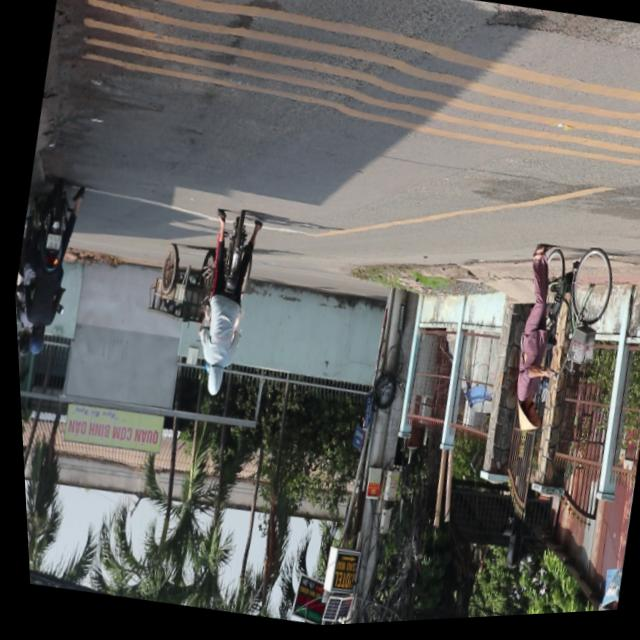helmet: (199, 368, 223, 401), (23, 326, 44, 357)
licenseplate: (177, 206, 270, 406), (7, 174, 89, 364)
nohelmet: (43, 235, 59, 251)
